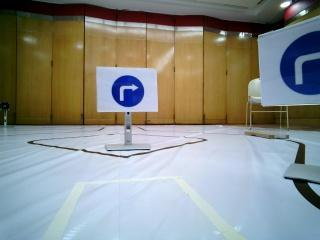right: (263, 34, 320, 103), (98, 68, 159, 111)
